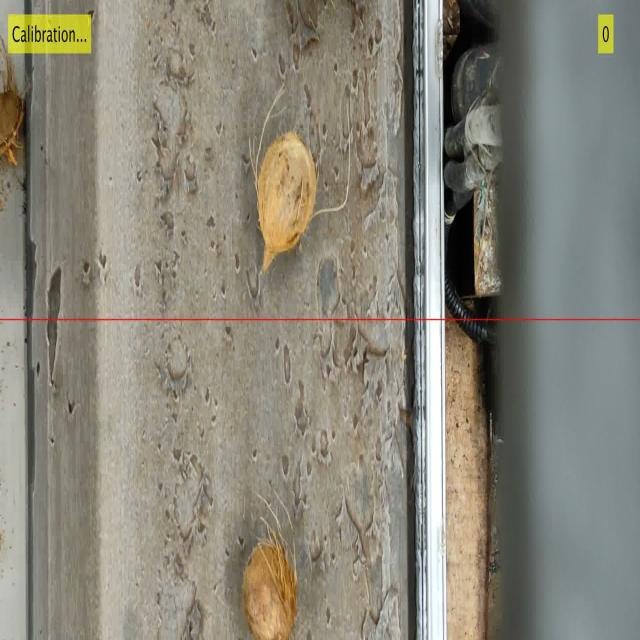Coconut-Conveyor-Belt: (254, 126, 318, 275), (240, 539, 300, 640)
